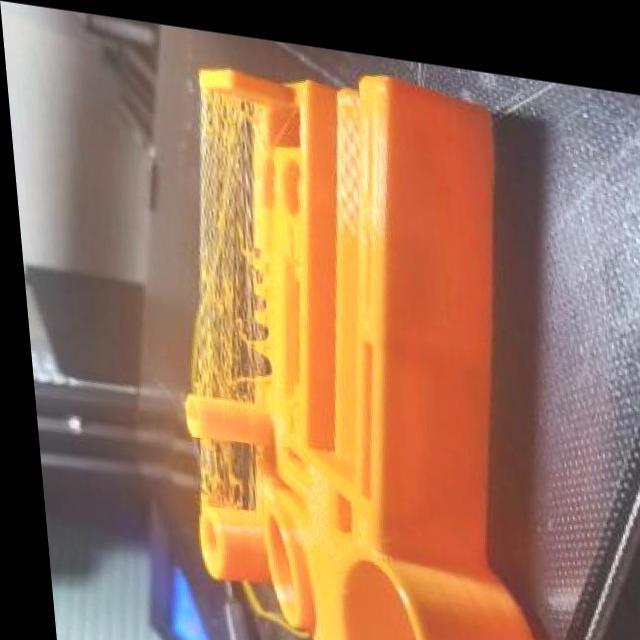stringing: (195, 86, 258, 196), (190, 269, 258, 368), (192, 186, 252, 274), (187, 430, 233, 504), (192, 359, 245, 399)
